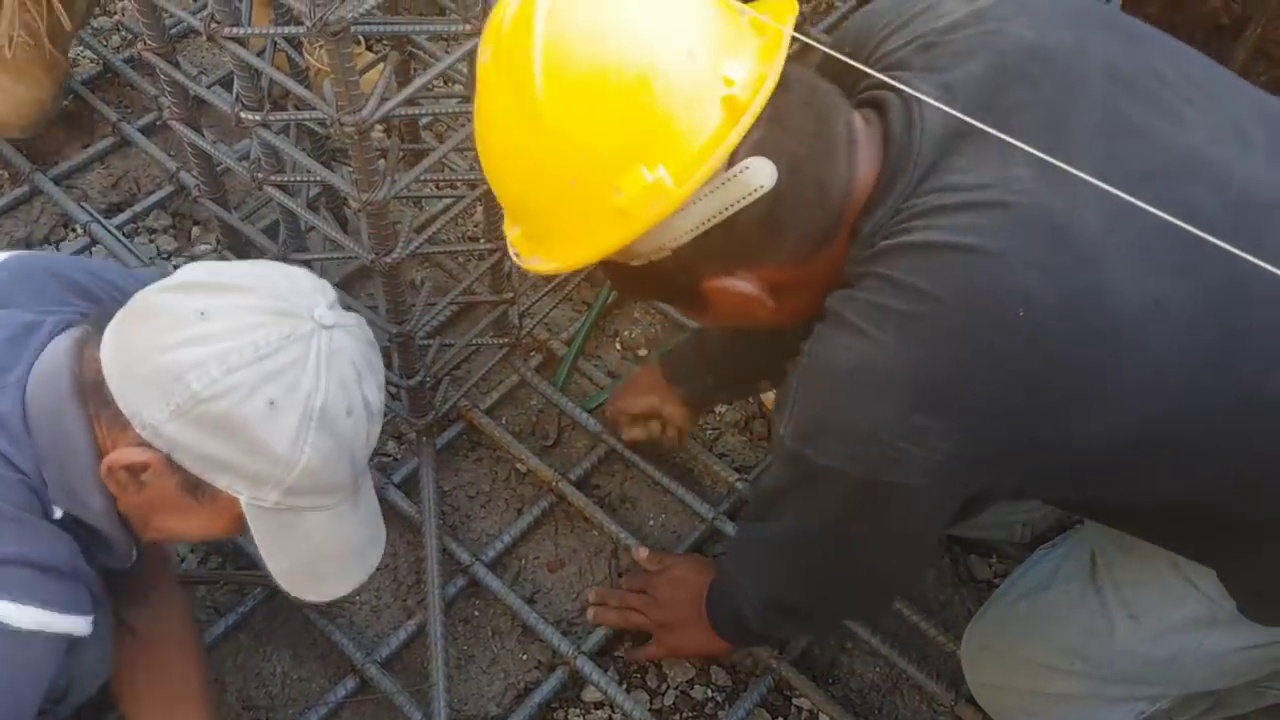helmet: (477, 0, 782, 278)
helmet-off: (69, 259, 404, 574)
helmet-on: (472, 6, 919, 348)
person: (470, 0, 1278, 713), (1, 256, 416, 717)
